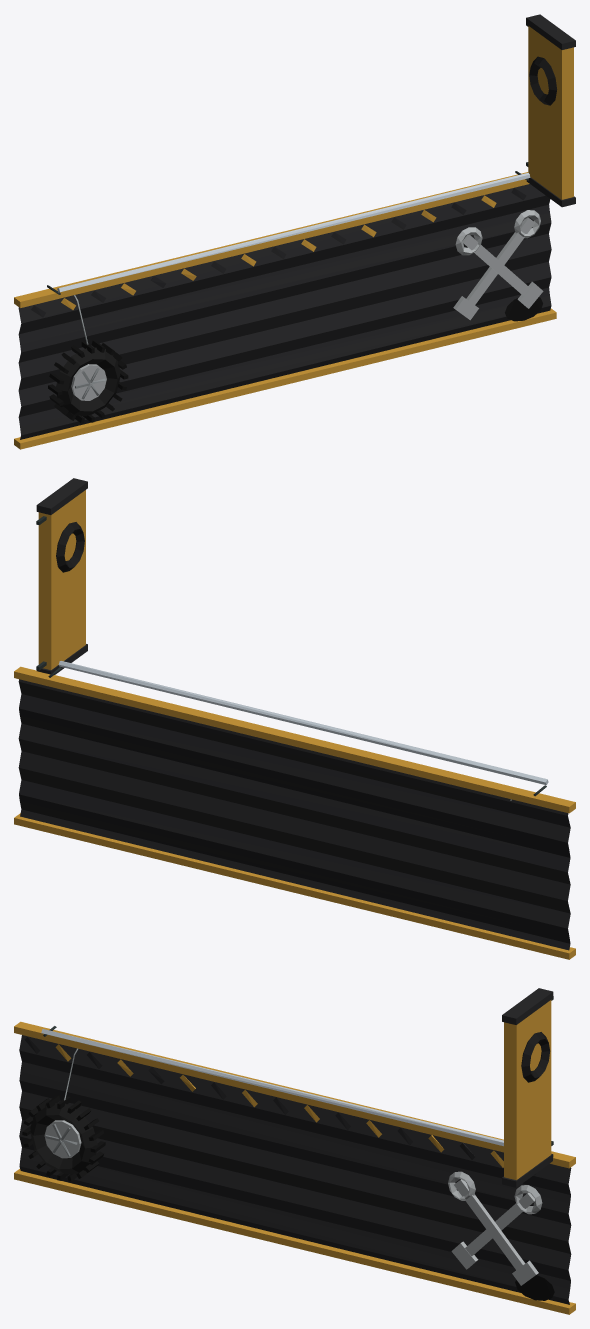
File: bang_tiem_xe_55.glb
The picture shows the model from 3 angles, top to bottom: view 1: azimuth 30°, elevation 25°; view 2: azimuth 150°, elevation 25°; view 3: azimuth 330°, elevation 25°; orthographic projection. The views are drawn at different scales.
Visible parts, largest first — view 1: bang_tiem_xe_55; view 2: bang_tiem_xe_55; view 3: bang_tiem_xe_55.
Part boxes in pixels (x1=…): bang_tiem_xe_55: x1=14, y1=14, x2=575, y2=449; bang_tiem_xe_55: x1=14, y1=478, x2=575, y2=959; bang_tiem_xe_55: x1=14, y1=988, x2=575, y2=1314.
Size of the model in its own units: 5.36 by 2.94 by 0.72.
